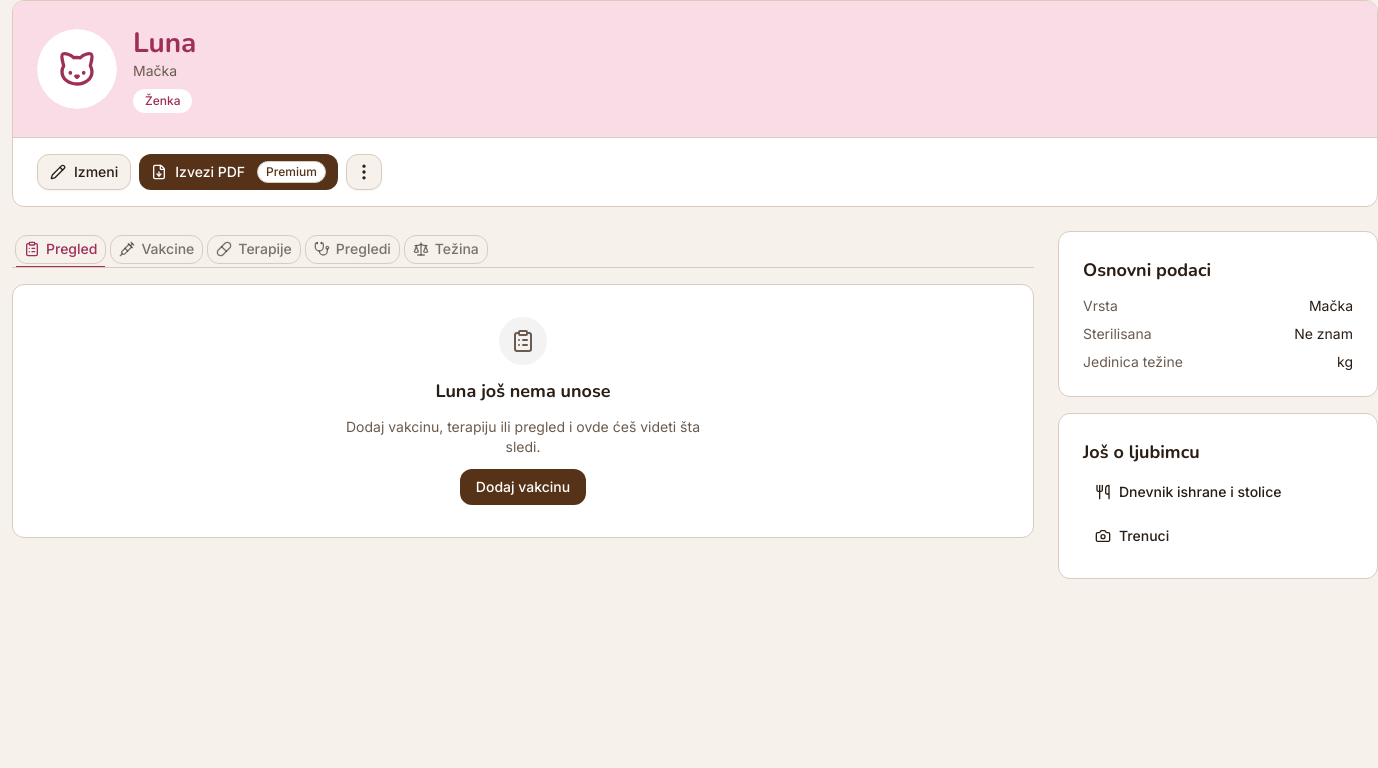
Test case: EP-06 — Premesti u Uspomene › a memorial pet has no 'Premesti u Uspomene' item
Click the button named "Još opcija". click: point(364, 172)
box: x1=346 y1=154 x2=382 y2=190
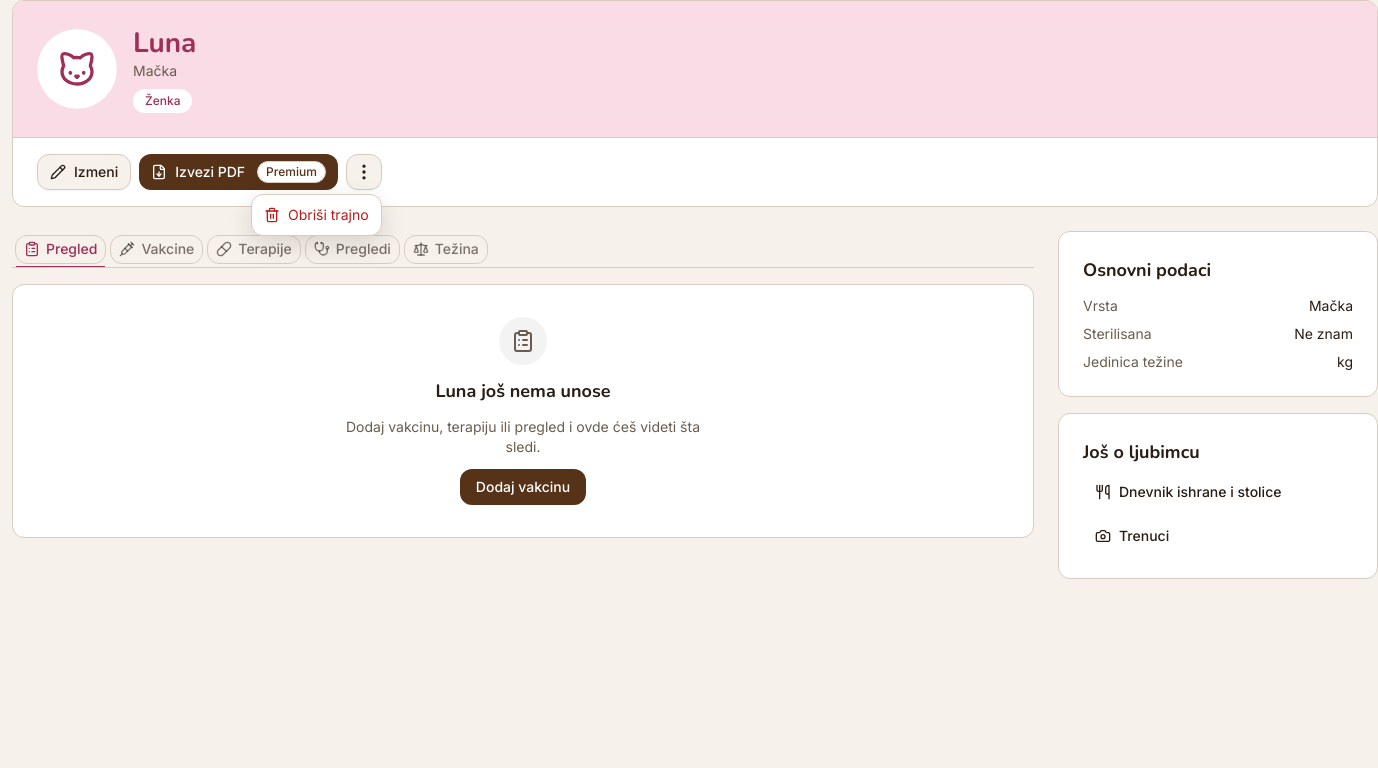
Result: the menu item "Obriši trajno" is shown at x1=264 y1=206 x2=369 y2=223
